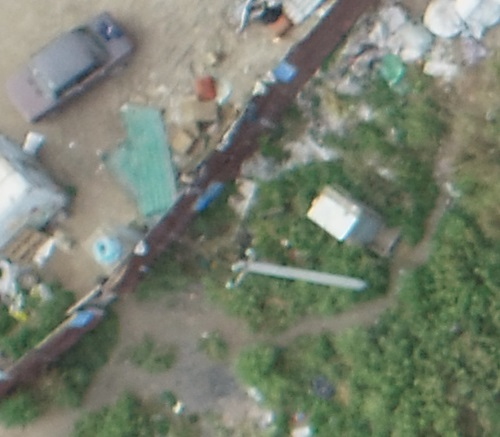opora: (224, 246, 368, 293)
